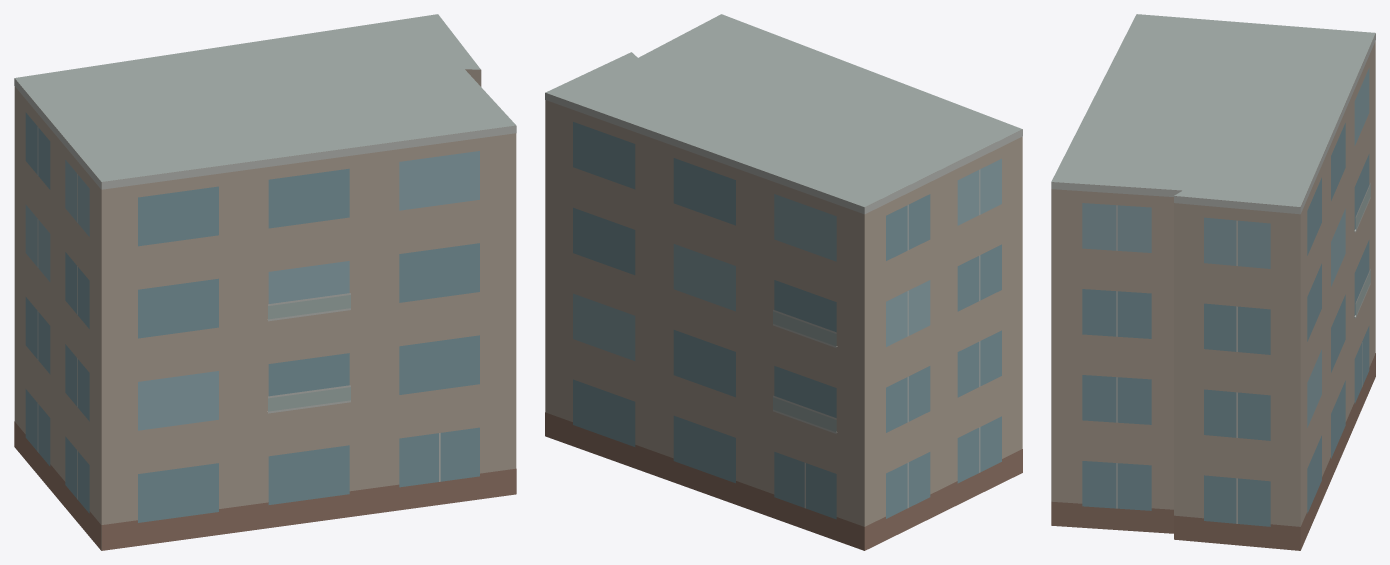
The model's file is survey-upis-32872652.glb.
3 views of the same model, side by side, from view 1: azimuth 30°, elevation 25°; view 2: azimuth 150°, elevation 25°; view 3: azimuth 270°, elevation 25° (orthographic). The views are drawn at different scales.
Parts seen in each view (by area): view 1: survey-upis-32872652.tmp; view 2: survey-upis-32872652.tmp; view 3: survey-upis-32872652.tmp.
Part boxes in pixels (x1,y1,x2,y2): survey-upis-32872652.tmp: (14, 14, 516, 550); survey-upis-32872652.tmp: (545, 14, 1022, 550); survey-upis-32872652.tmp: (1051, 14, 1375, 550).
Bounding box in the file's own units: 14.04 × 11.65 × 9.98.
